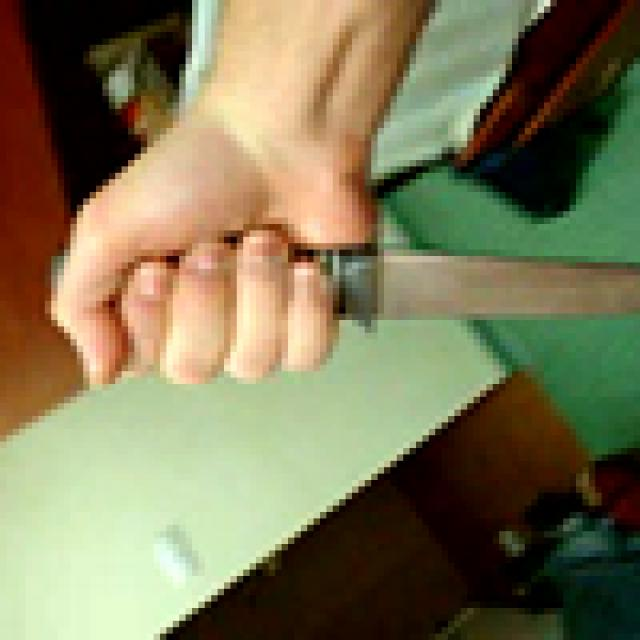Weapons: (320, 246, 640, 334)
